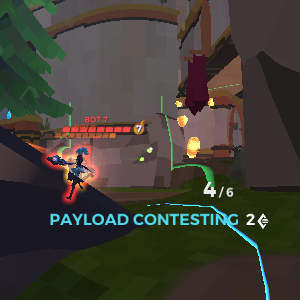model: (55, 145, 92, 207)
